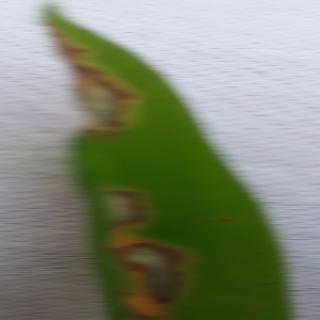Blast: (105, 182, 193, 310)
